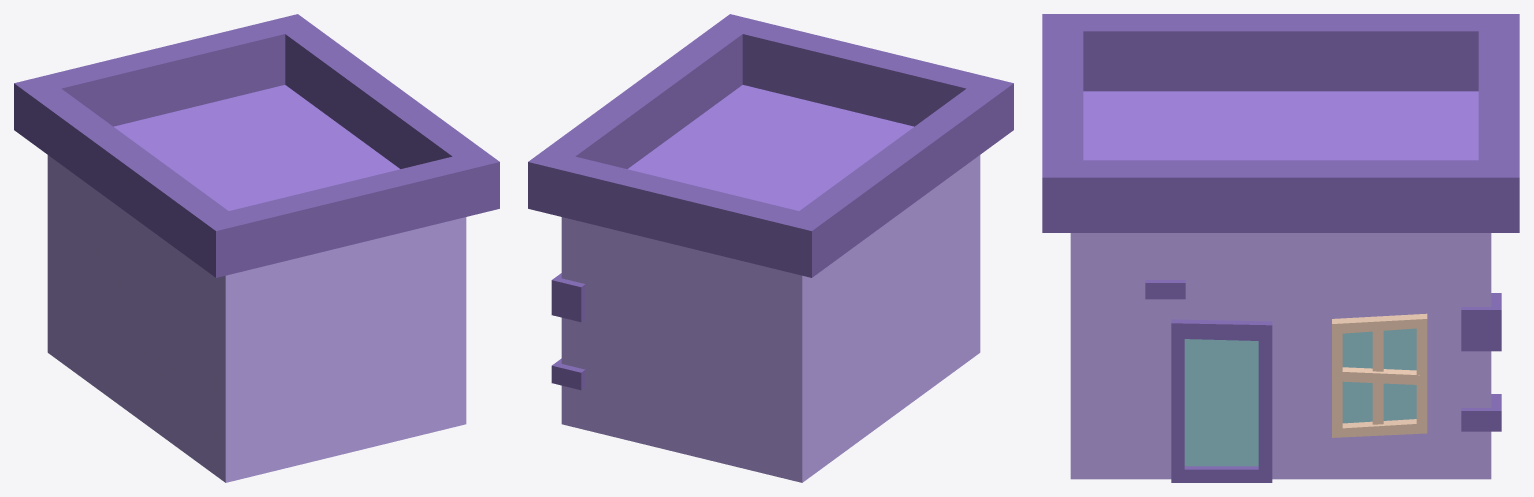
Rendered from Purple_house_small_2.fbx.
The picture shows the model from 3 angles, left to right: view 1: azimuth 30°, elevation 25°; view 2: azimuth 150°, elevation 25°; view 3: azimuth 270°, elevation 25°; orthographic projection. The views are drawn at different scales.
Visible parts, largest first — view 1: Purple house small 2; view 2: Purple house small 2; view 3: Purple house small 2.
Part boxes in pixels (x1=…): Purple house small 2: x1=14, y1=14, x2=499, y2=482; Purple house small 2: x1=528, y1=14, x2=1013, y2=482; Purple house small 2: x1=1042, y1=14, x2=1519, y2=482.
Bounding box in the file's own units: 972 × 870 × 1199.
